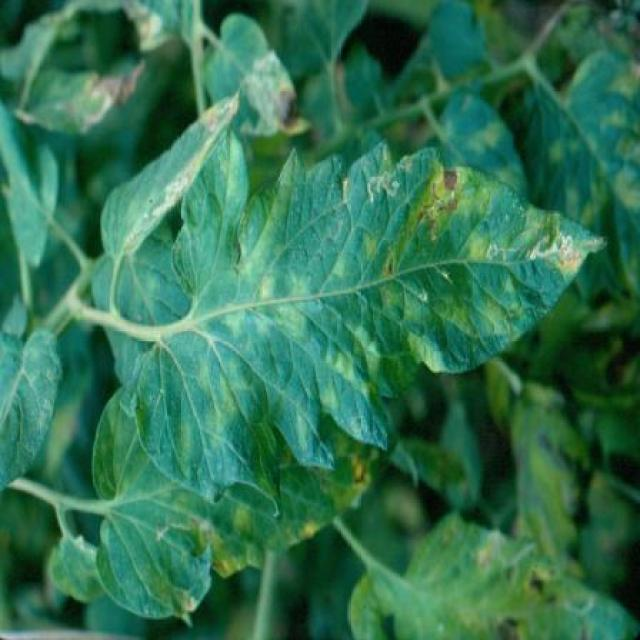Leaf Mold: (117, 134, 612, 510)
